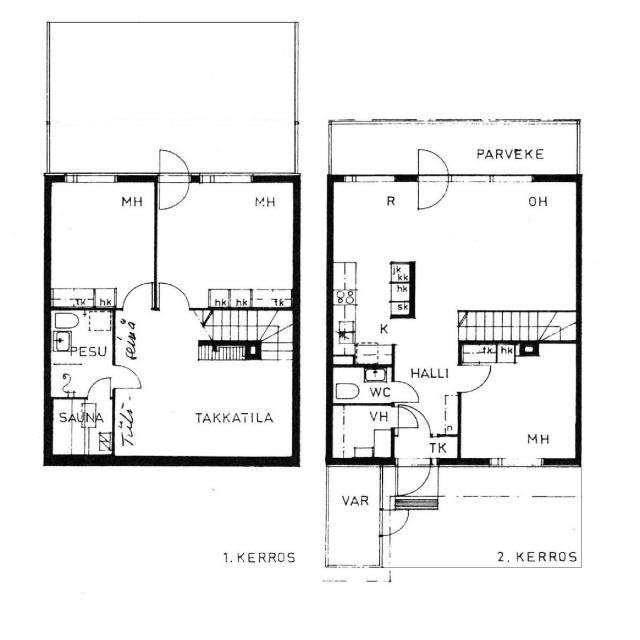door: (152, 144, 193, 214), (412, 145, 449, 214), (390, 460, 434, 497), (155, 277, 194, 311), (456, 361, 494, 394), (120, 277, 158, 310), (108, 361, 147, 393), (83, 374, 115, 403), (392, 404, 424, 432), (379, 509, 412, 535), (388, 380, 422, 405)
window: (454, 171, 534, 187), (196, 168, 258, 187), (62, 168, 122, 186), (338, 171, 402, 187), (493, 457, 547, 471)
zone: (326, 178, 578, 334), (111, 354, 299, 462), (154, 177, 299, 309), (47, 174, 160, 308), (330, 177, 409, 368), (458, 348, 581, 464), (47, 307, 114, 399), (48, 397, 114, 458), (330, 404, 394, 459), (329, 367, 392, 402)
